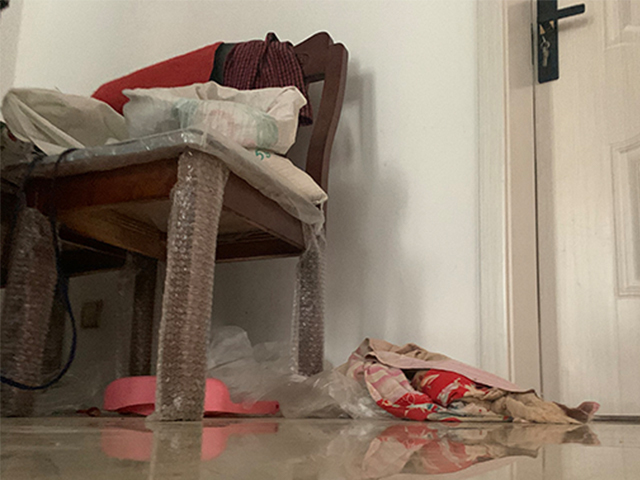stool: (1, 29, 351, 423)
